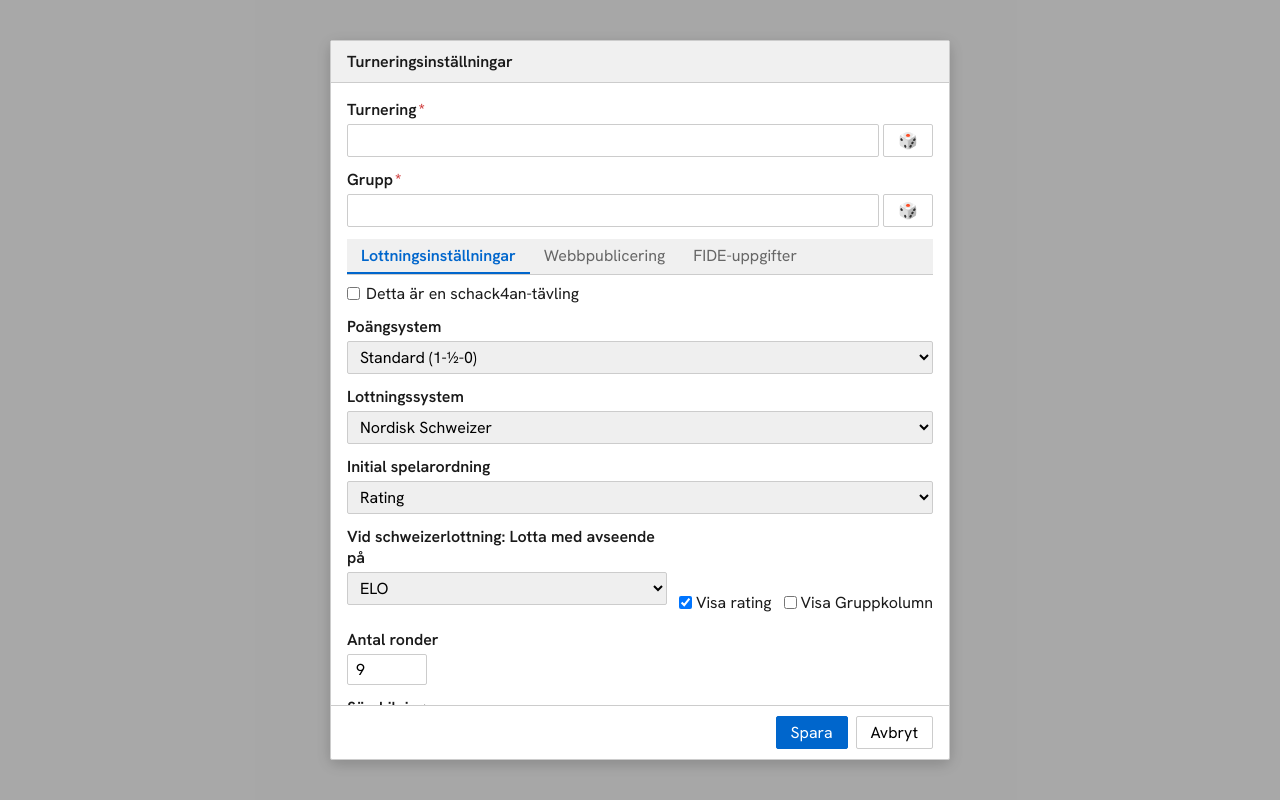
Test: TournamentDialog randomize buttons › populates tournament name when randomize button is clicked
Expected: the field with test id "tournament-name-input" is empty, [347,124,879,157]
Click the button with test id "randomize-name" at (908, 140), box [883,124,933,157]
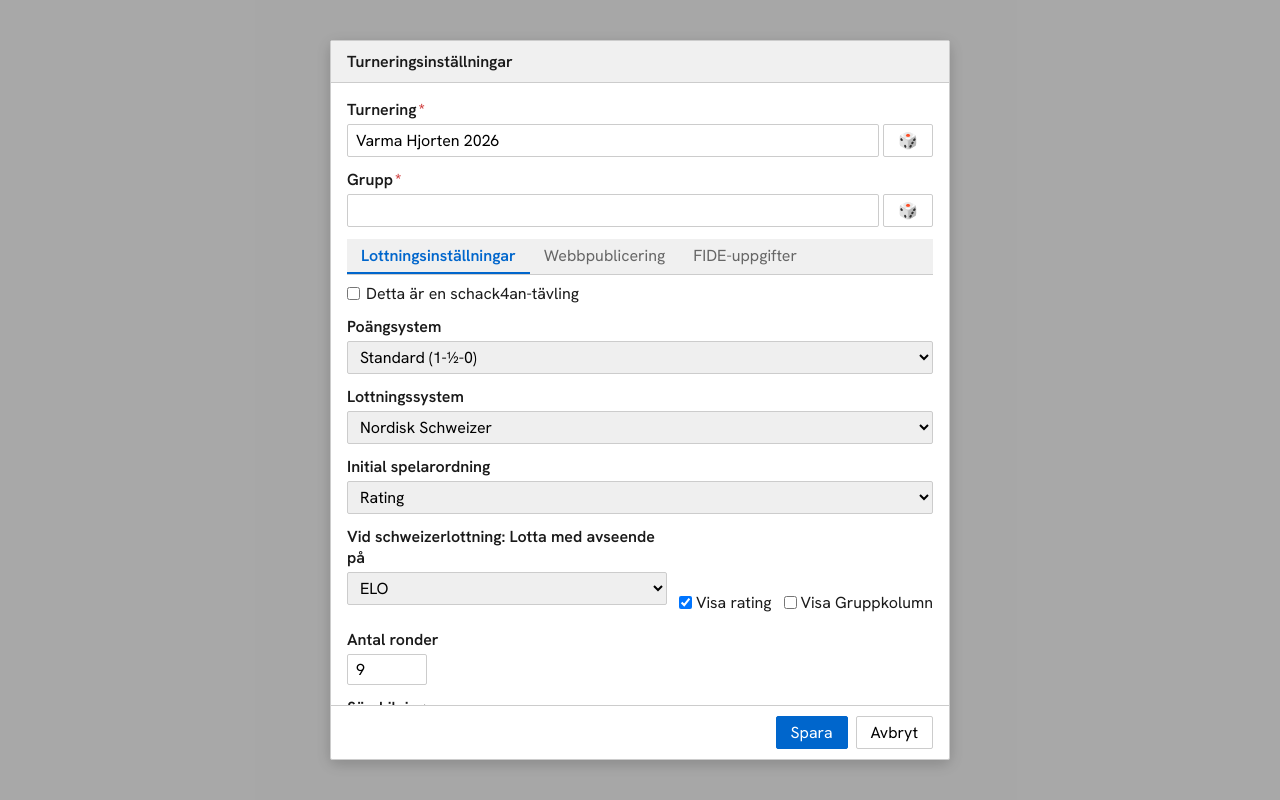
Expected: the field with test id "tournament-name-input" is not empty, [347,124,879,157]
